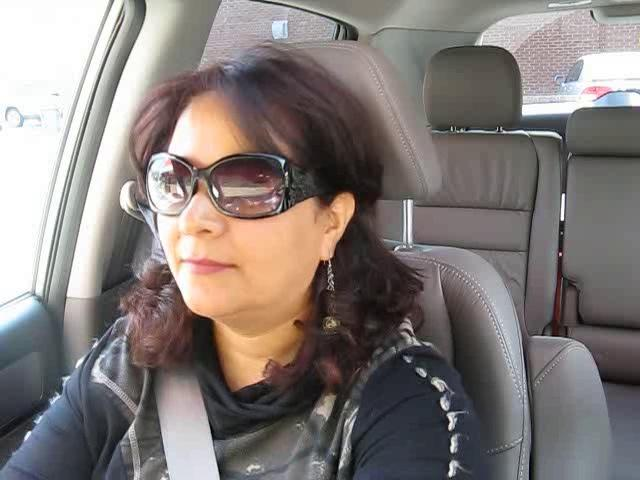no_yawn: (160, 240, 250, 291)
